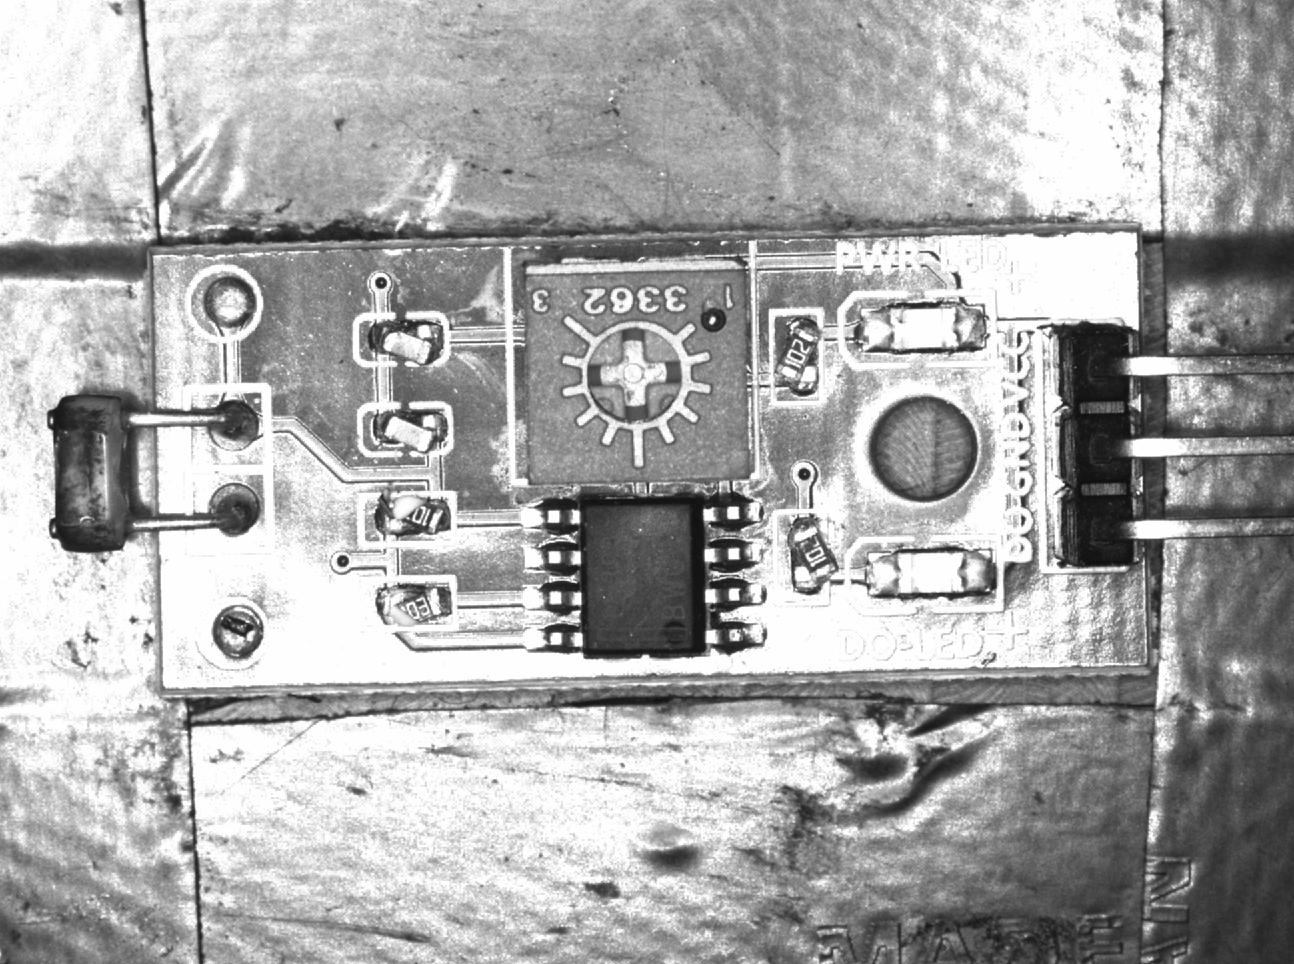lifted: (776, 507, 836, 604), (350, 314, 446, 369), (358, 491, 455, 545), (361, 579, 458, 633), (769, 308, 823, 401), (358, 402, 448, 457)
